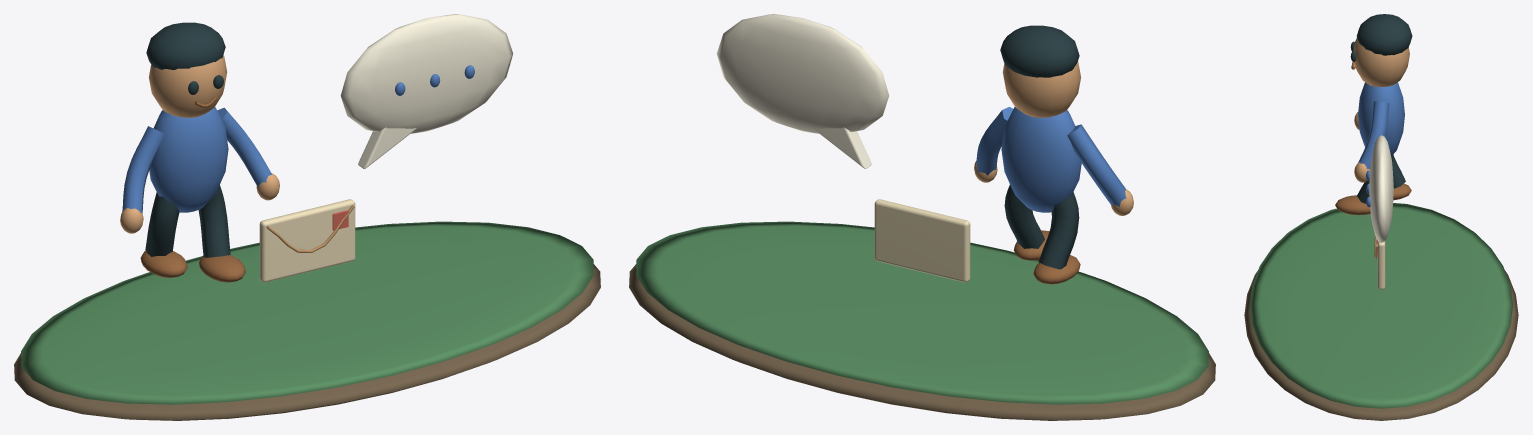
File: complete-first-person-written-words.glb
3 renders of one model, left to right at view 1: azimuth 30°, elevation 25°; view 2: azimuth 150°, elevation 25°; view 3: azimuth 270°, elevation 25°, orthographic. The views are drawn at different scales.
Visible parts, largest first — view 1: complete-first-person-written-words_surface_01, complete-first-person-written-words_surface_06, complete-first-person-written-words_surface_00, complete-first-person-written-words_surface_05, complete-first-person-written-words_surface_03, complete-first-person-written-words_surface_07, complete-first-person-written-words_surface_02, complete-first-person-written-words_surface_04; view 2: complete-first-person-written-words_surface_01, complete-first-person-written-words_surface_06, complete-first-person-written-words_surface_00, complete-first-person-written-words_surface_05, complete-first-person-written-words_surface_03, complete-first-person-written-words_surface_07, complete-first-person-written-words_surface_02, complete-first-person-written-words_surface_04; view 3: complete-first-person-written-words_surface_01, complete-first-person-written-words_surface_00, complete-first-person-written-words_surface_05, complete-first-person-written-words_surface_03, complete-first-person-written-words_surface_06, complete-first-person-written-words_surface_02, complete-first-person-written-words_surface_04, complete-first-person-written-words_surface_07.
Boxes of the visible parts, x1,y1,x2,y2 form: complete-first-person-written-words_surface_01: [21, 221, 593, 404]; complete-first-person-written-words_surface_06: [340, 14, 513, 168]; complete-first-person-written-words_surface_00: [14, 264, 600, 420]; complete-first-person-written-words_surface_05: [122, 65, 474, 213]; complete-first-person-written-words_surface_03: [145, 22, 230, 257]; complete-first-person-written-words_surface_07: [259, 199, 355, 282]; complete-first-person-written-words_surface_02: [120, 55, 279, 233]; complete-first-person-written-words_surface_04: [140, 97, 245, 282]; complete-first-person-written-words_surface_01: [636, 221, 1208, 404]; complete-first-person-written-words_surface_06: [716, 14, 889, 168]; complete-first-person-written-words_surface_00: [629, 264, 1215, 420]; complete-first-person-written-words_surface_05: [976, 107, 1126, 212]; complete-first-person-written-words_surface_03: [1000, 25, 1079, 269]; complete-first-person-written-words_surface_07: [874, 199, 970, 282]; complete-first-person-written-words_surface_02: [974, 61, 1133, 215]; complete-first-person-written-words_surface_04: [1013, 230, 1080, 284]; complete-first-person-written-words_surface_01: [1250, 203, 1512, 408]; complete-first-person-written-words_surface_00: [1244, 271, 1518, 420]; complete-first-person-written-words_surface_05: [1357, 82, 1404, 207]; complete-first-person-written-words_surface_03: [1350, 14, 1412, 203]; complete-first-person-written-words_surface_06: [1369, 135, 1393, 242]; complete-first-person-written-words_surface_02: [1353, 38, 1409, 182]; complete-first-person-written-words_surface_04: [1335, 62, 1411, 215]; complete-first-person-written-words_surface_07: [1377, 241, 1385, 289].
Bounding box in the file's own units: 4.56 × 2.67 × 2.5.
